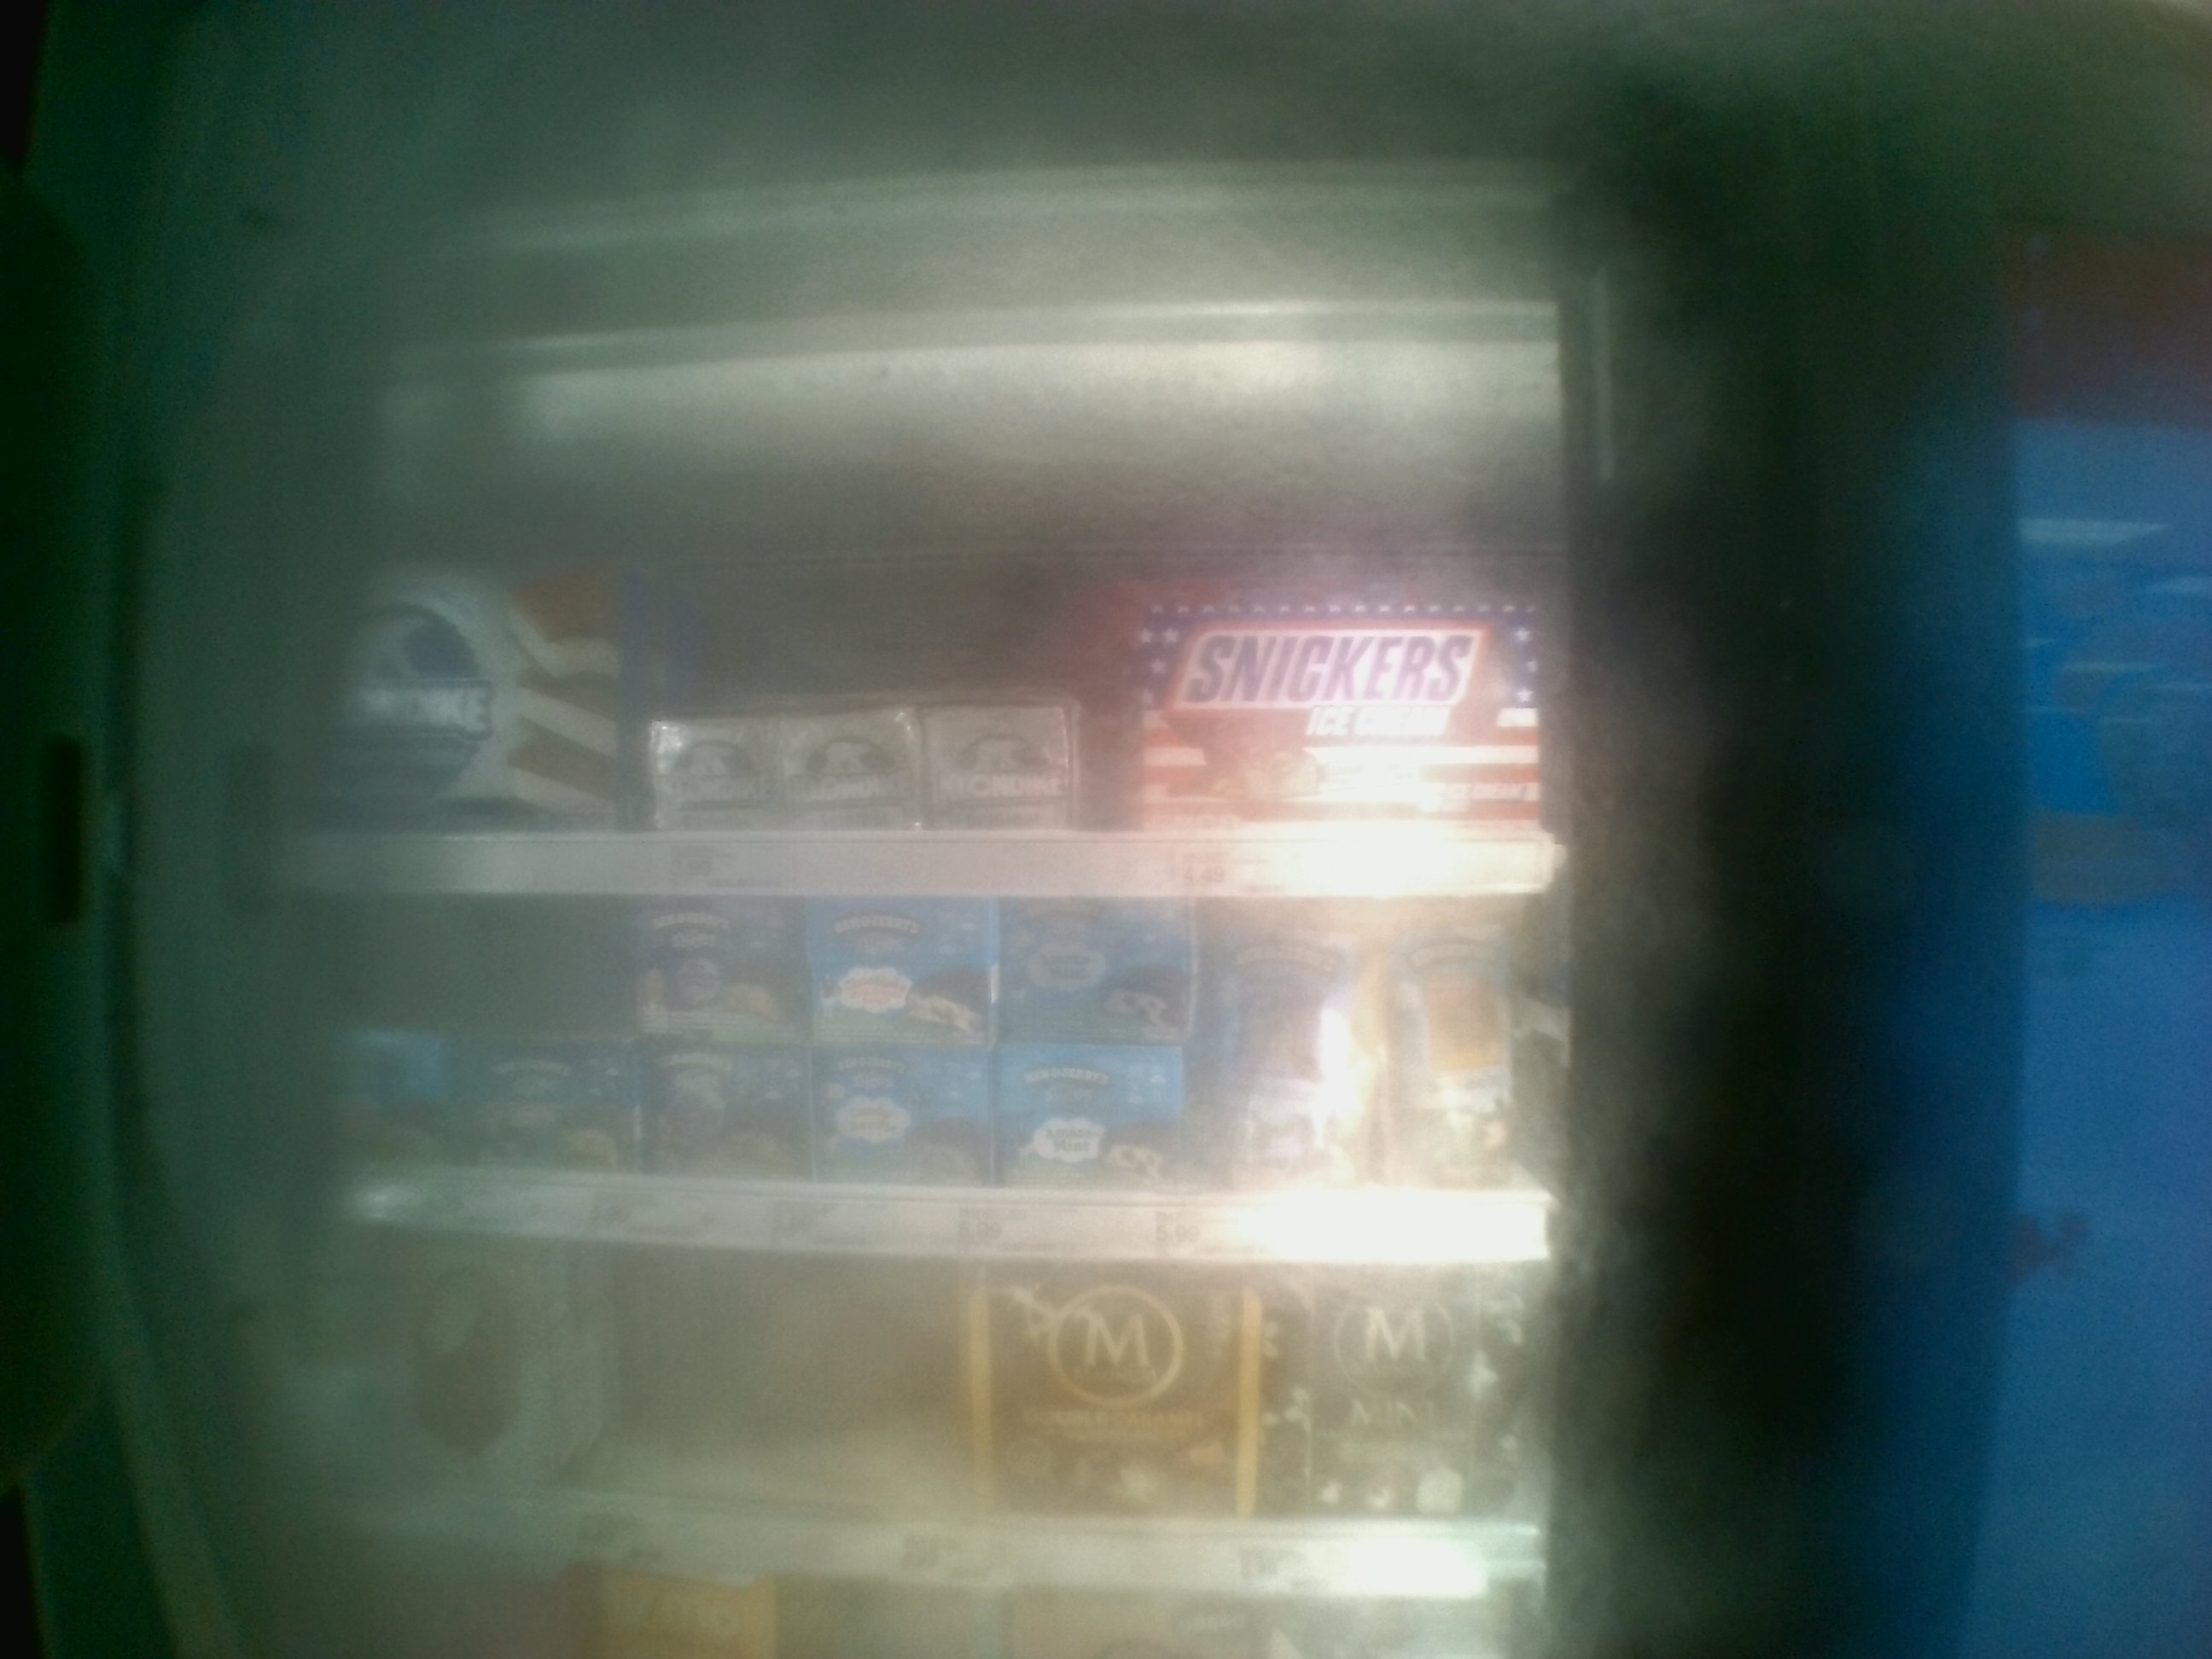ice-cream-shelf: (303, 889, 1564, 1258)
